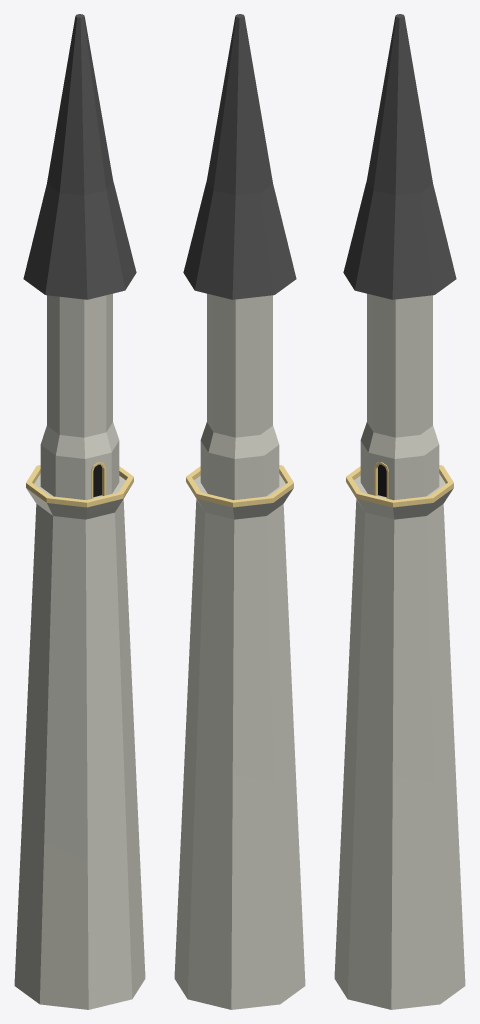
Rendered from Building_Castle_Tower_Keep_Top_Small_01.fbx.
3 renders of one model, left to right at view 1: azimuth 30°, elevation 25°; view 2: azimuth 150°, elevation 25°; view 3: azimuth 330°, elevation 25°, orthographic.
Parts seen in each view (by area): view 1: Building_Castle_Tower_Keep_Top_Small_01; view 2: Building_Castle_Tower_Keep_Top_Small_01; view 3: Building_Castle_Tower_Keep_Top_Small_01.
Boxes of the visible parts, left/top/right/bottom form: Building_Castle_Tower_Keep_Top_Small_01: left=14, top=14, right=145, bottom=1009; Building_Castle_Tower_Keep_Top_Small_01: left=174, top=14, right=305, bottom=1009; Building_Castle_Tower_Keep_Top_Small_01: left=334, top=14, right=465, bottom=1009.
Size of the model in its own units: 3497 by 30544 by 3497.
